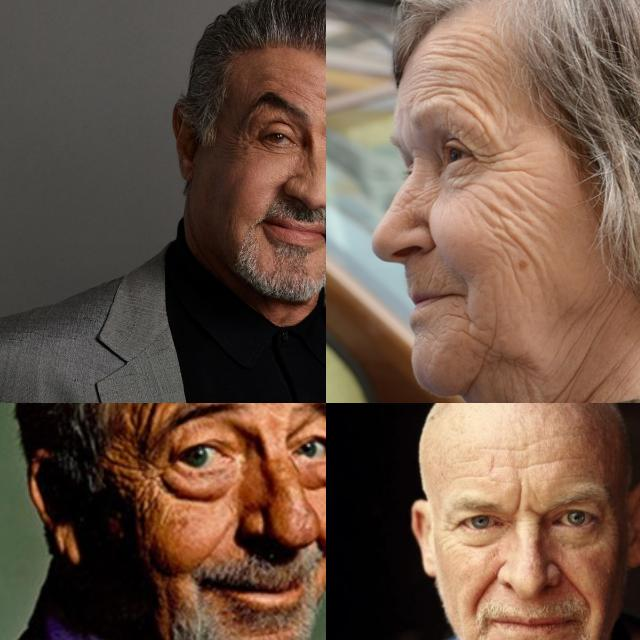bunny_line: (403, 184, 432, 208), (304, 155, 318, 179)
chin: (447, 304, 478, 336), (464, 357, 488, 389)
crows_feet: (128, 447, 162, 503), (474, 147, 504, 179), (236, 131, 258, 153)
forehead: (437, 63, 477, 101), (436, 32, 476, 56), (509, 456, 553, 472), (409, 78, 435, 104), (474, 440, 514, 454), (468, 108, 490, 132), (481, 453, 499, 482), (416, 40, 432, 70), (312, 90, 326, 110)
frown_line: (512, 480, 528, 512)
gummy_smile: (556, 558, 588, 610), (472, 570, 500, 606)
masseter: (572, 306, 604, 346), (509, 178, 541, 208), (488, 204, 514, 240), (517, 238, 541, 270), (483, 312, 501, 346)
smoker_lines: (420, 264, 442, 290)
